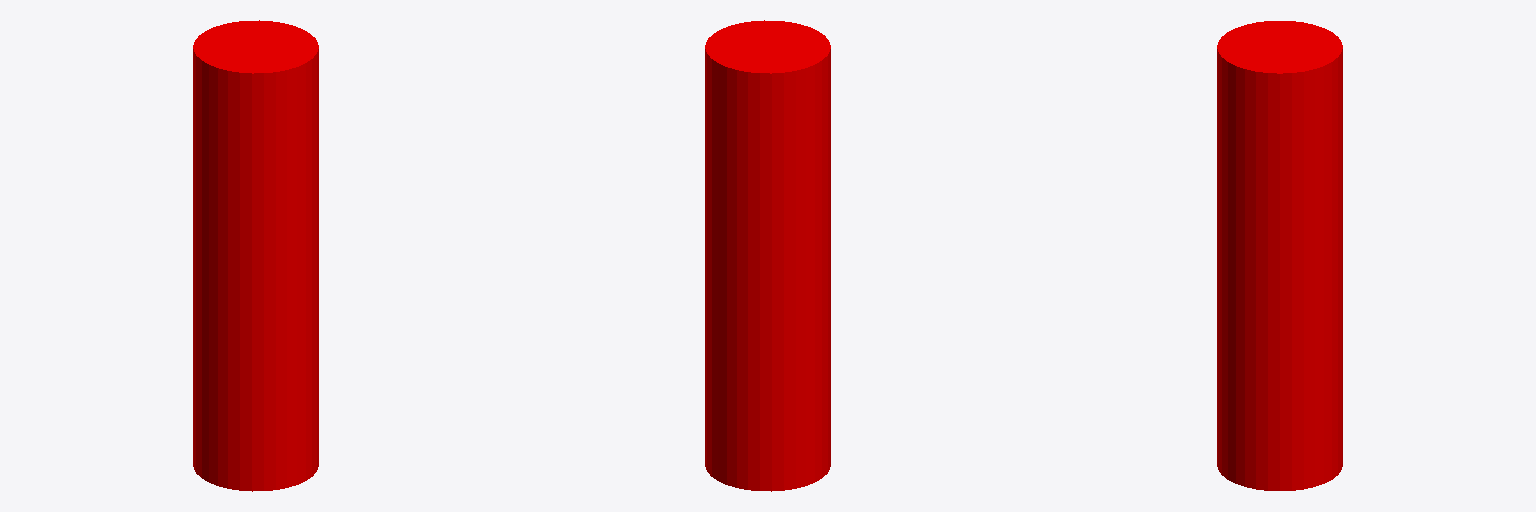
URDF robot description (can_1_small):
<?xml version="1.0"?>
<robot name="can_1_small">
	<link name="base">
	<inertial>
        	 <origin xyz="0 0 0.07" rpy="0 0 0"/>
        	 <mass value="0.05"/>
        	 <inertia ixx="0.000683333"  ixy="0"  ixz="0" iyy="0.000683333" iyz="0" izz="0.000683333" />
       </inertial>
	<visual>
                <origin xyz="0.0 0.0 0.07" rpy="0 0 0" />
                <!--origin xyz="0.0 0.0 0.055" rpy="0 0 0" /-->
		<geometry>
                         <!--<mesh filename="can/cokecan2.dae" scale="0.0254 0.0254 0.0254"/>-->
            <cylinder length="0.11" radius="0.015"/>
      		</geometry>
            <material>
			<color rgba="1 0 0 1" />
	    </material>
		<!--material>
                    <color rgba="0 0 1 1" />
		</material-->
		</visual>
  	 <collision>
		<!--origin xyz="0.0 0.0 -0.00255" rpy="0 0 0"/-->
		<origin xyz="0.0 0.0 0.08" rpy="0 0 0"/>
            <geometry>
       			 <!--mesh filename="can/cokecan.dae"  scale="0.0254 0.0254 0.0254"/-->
                         <cylinder length="0.11" radius="0.015"/>
            </geometry>
	    <material>
			<color rgba="1 0 0 1" />
	    </material>
        </collision>
	</link>
</robot>

--- Facts derived from the render (not from the file) ---
3 views of the same robot in one strip: view 1: azimuth 30°, elevation 25°; view 2: azimuth 150°, elevation 25°; view 3: azimuth 270°, elevation 25° (orthographic).
Model can_1_small with 1 links and 0 joints (none), rooted at base, posed every joint at zero.
Links seen in each view (by area): view 1: base; view 2: base; view 3: base.
Link boxes in pixels (box(x1,y1,x2,y2)): base: box(193, 20, 318, 491); base: box(705, 20, 830, 491); base: box(1217, 21, 1342, 490).
Bounding box of the posed robot: 0.03 × 0.03 × 0.11 m (x, y, z).
Geometry: primitives only (box / cylinder / sphere), no mesh files.
